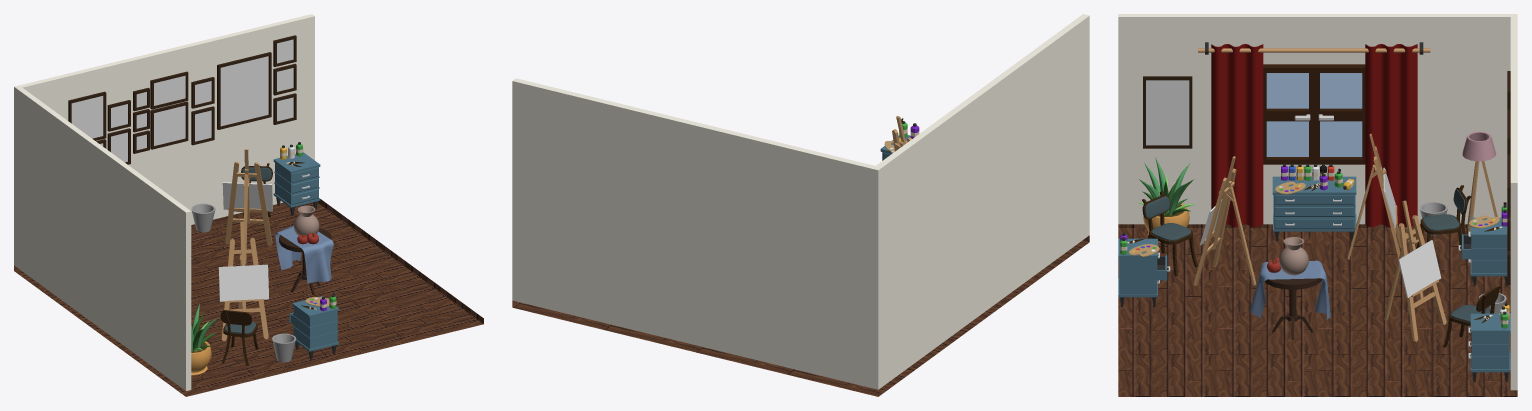
Rendered from art_studio.glb.
3 views of the same model, side by side, from view 1: azimuth 30°, elevation 25°; view 2: azimuth 150°, elevation 25°; view 3: azimuth 270°, elevation 25° (orthographic). The views are drawn at different scales.
Visible parts, largest first — view 1: Plane.001, Plane, Cube.038, Cube.044, Cube.009, Cube.048, Cube.001, Plane.004, Cube.045, Cube.020, Sphere, Cone.001 (+2 smaller); view 2: Plane.001, Plane; view 3: Plane, Plane.001, Cube.023, Cube.022, Cube.024, Cube.005, Cube.043, Cube.009, Cube.048, Cube.001, Cube.007, Cube.044 (+13 smaller).
Part boxes in pixels (left/top/right/bottom): Plane.001: left=14, top=14, right=314, bottom=390; Plane: left=14, top=199, right=483, bottom=396; Cube.038: left=68, top=35, right=296, bottom=164; Cube.044: left=218, top=221, right=268, bottom=341; Cube.009: left=222, top=149, right=272, bottom=264; Cube.048: left=289, top=292, right=339, bottom=359; Cube.001: left=273, top=152, right=320, bottom=215; Plane.004: left=275, top=225, right=333, bottom=283; Cube.045: left=220, top=309, right=258, bottom=365; Cube.020: left=191, top=303, right=218, bottom=375; Sphere: left=293, top=205, right=319, bottom=235; Cone.001: left=191, top=203, right=215, bottom=232; Plane.001: left=512, top=14, right=1089, bottom=389; Plane: left=512, top=235, right=1089, bottom=396; Plane: left=1118, top=224, right=1517, bottom=396; Plane.001: left=1118, top=14, right=1517, bottom=390; Cube.023: left=1263, top=64, right=1365, bottom=164; Cube.022: left=1211, top=44, right=1263, bottom=227; Cube.024: left=1365, top=44, right=1417, bottom=227; Cube.005: left=1272, top=176, right=1356, bottom=241; Cube.043: left=1143, top=76, right=1192, bottom=148; Cube.009: left=1384, top=200, right=1446, bottom=341; Cube.048: left=1118, top=232, right=1170, bottom=307; Cube.001: left=1468, top=313, right=1510, bottom=382; Cube.007: left=1458, top=217, right=1507, bottom=286; Cube.044: left=1193, top=156, right=1256, bottom=285.
Bounding box in the file's own units: 3.76 × 2.22 × 3.76.
Materials: 34 (1 with a texture image).
